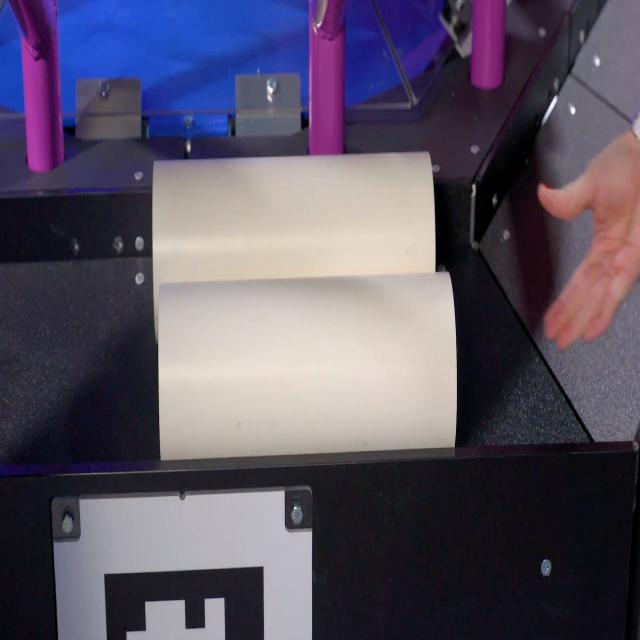Coral: (158, 272, 458, 460), (152, 152, 436, 344)
